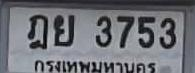3: (158, 17, 175, 48), (95, 15, 111, 46)
5: (137, 16, 154, 47)
7: (116, 15, 133, 47)
A14: (27, 14, 47, 49)
A34: (53, 14, 74, 46)
BKK: (34, 56, 159, 73)
